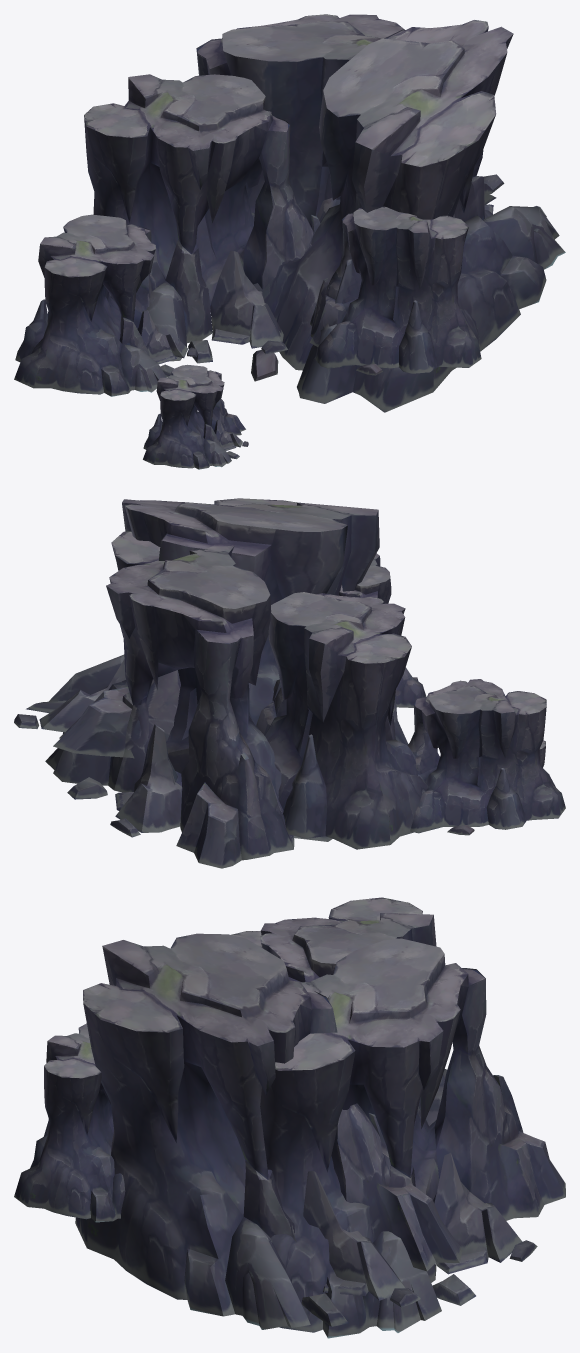
Rendered from boss4_2.obj.
3 renders of one model, top to bottom at view 1: azimuth 30°, elevation 25°; view 2: azimuth 150°, elevation 25°; view 3: azimuth 270°, elevation 25°, orthographic. The views are drawn at different scales.
Visible parts, largest first — view 1: boss4_2; view 2: boss4_2; view 3: boss4_2.
Part boxes in pixels (x1,y1,x2,y2): boss4_2: [14, 14, 565, 469]; boss4_2: [14, 498, 565, 868]; boss4_2: [14, 897, 565, 1338].
Size of the model in its own units: 77.3 by 39.29 by 60.41.
